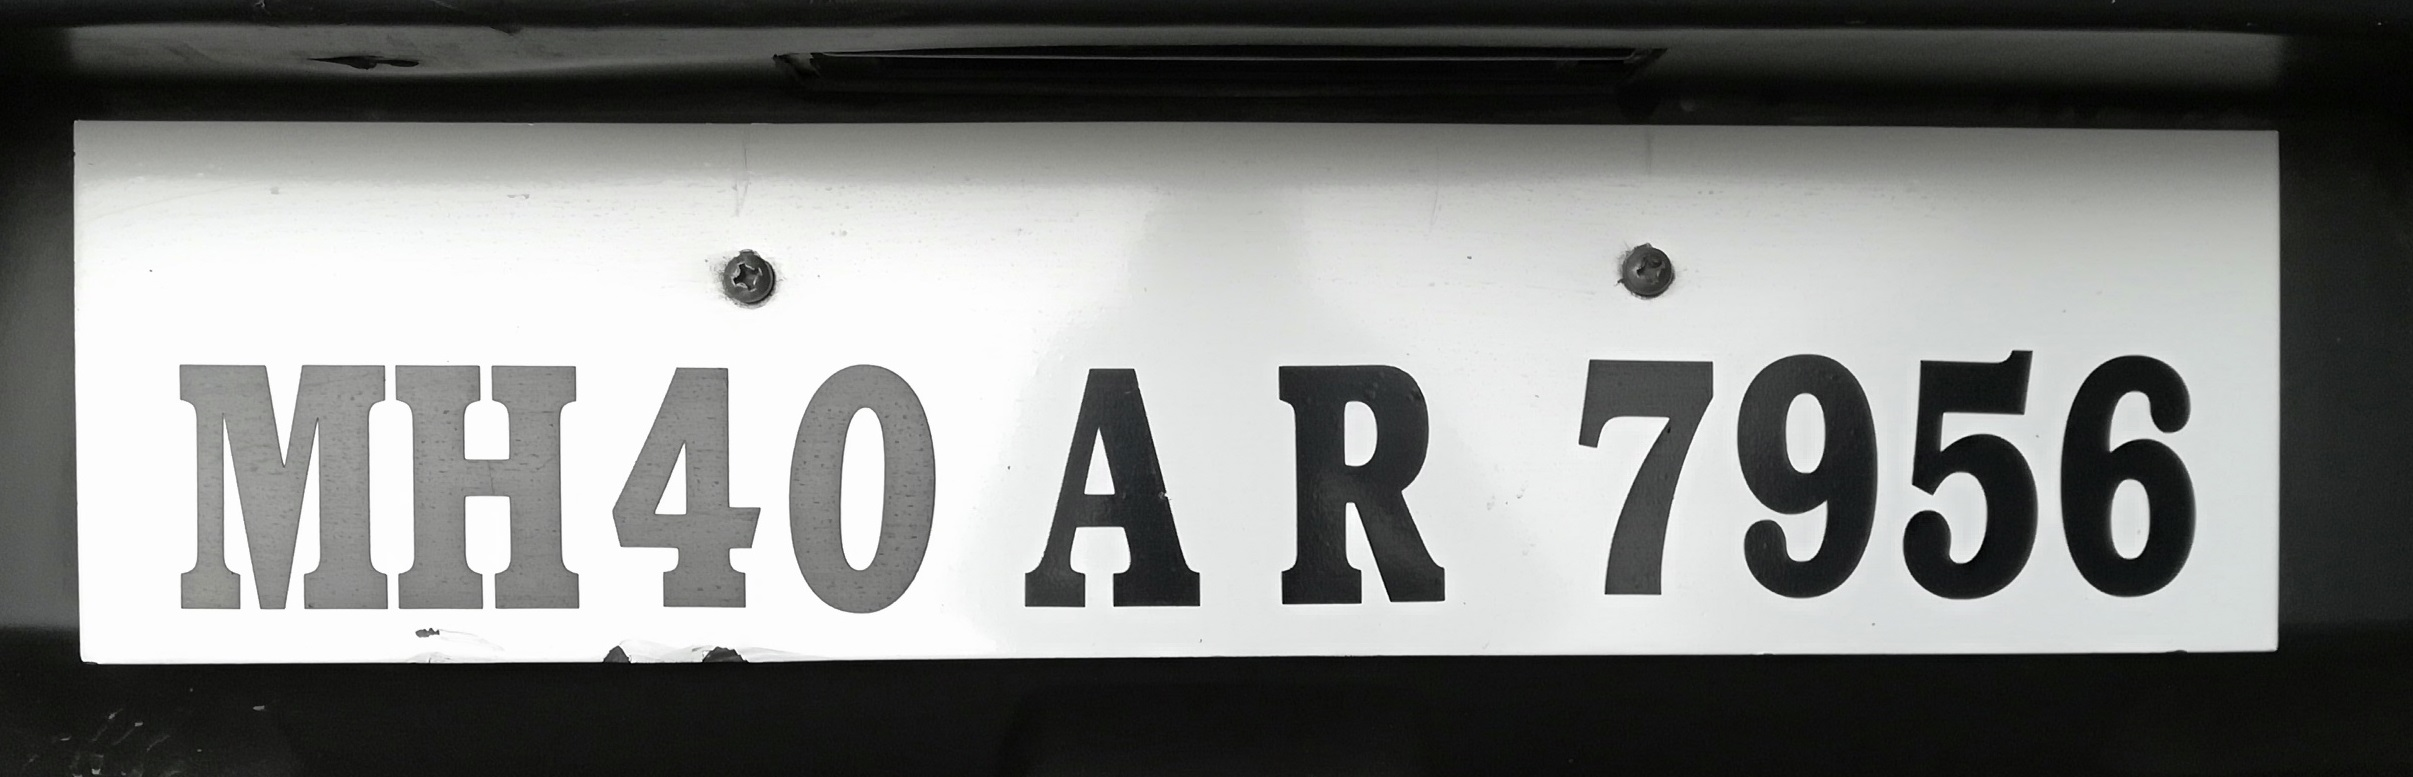numberplate: (62, 99, 2293, 661)
